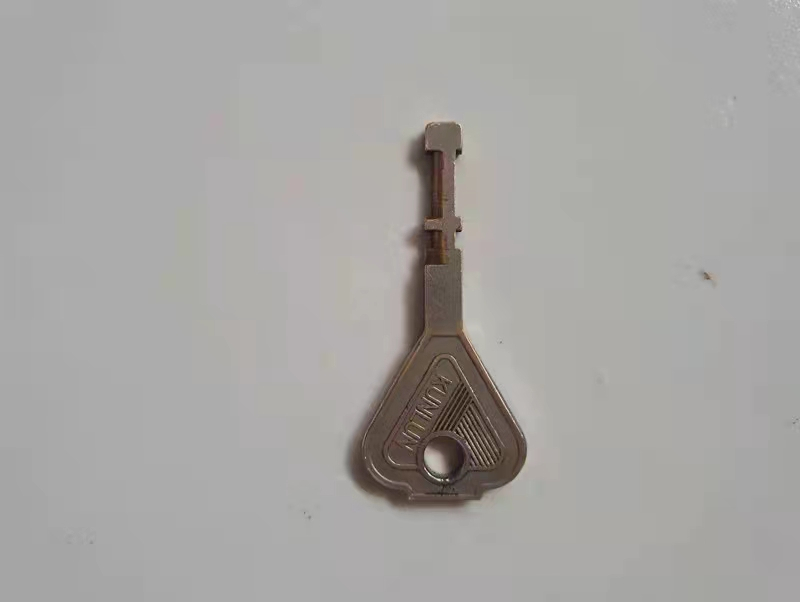key: (346, 116, 534, 509)
